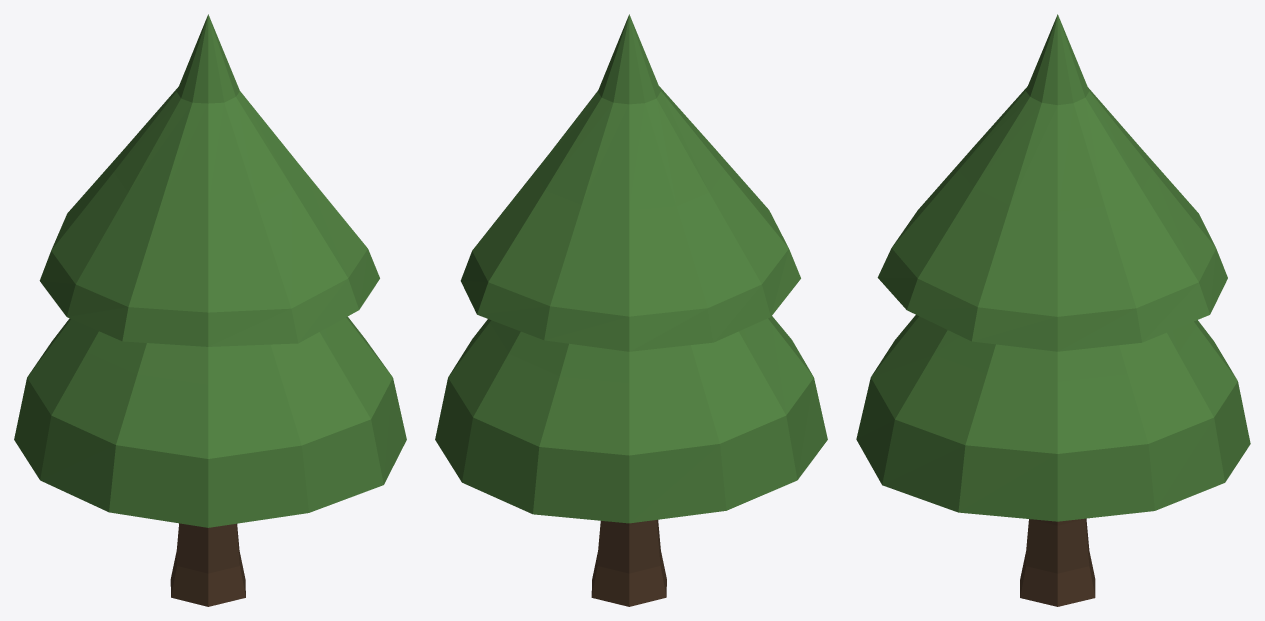
The model's file is young-pine-0d7695.glb.
3 views of the same model, side by side, from view 1: azimuth 30°, elevation 25°; view 2: azimuth 150°, elevation 25°; view 3: azimuth 270°, elevation 25° (orthographic).
Visible parts, largest first — view 1: young-pine-mesh; view 2: young-pine-mesh; view 3: young-pine-mesh.
Boxes of the visible parts, <box> form: young-pine-mesh: <box>14,14,406,606</box>; young-pine-mesh: <box>435,14,827,606</box>; young-pine-mesh: <box>856,14,1250,606</box>.
Bounding box in the file's own units: 1.84 × 3 × 1.87.
